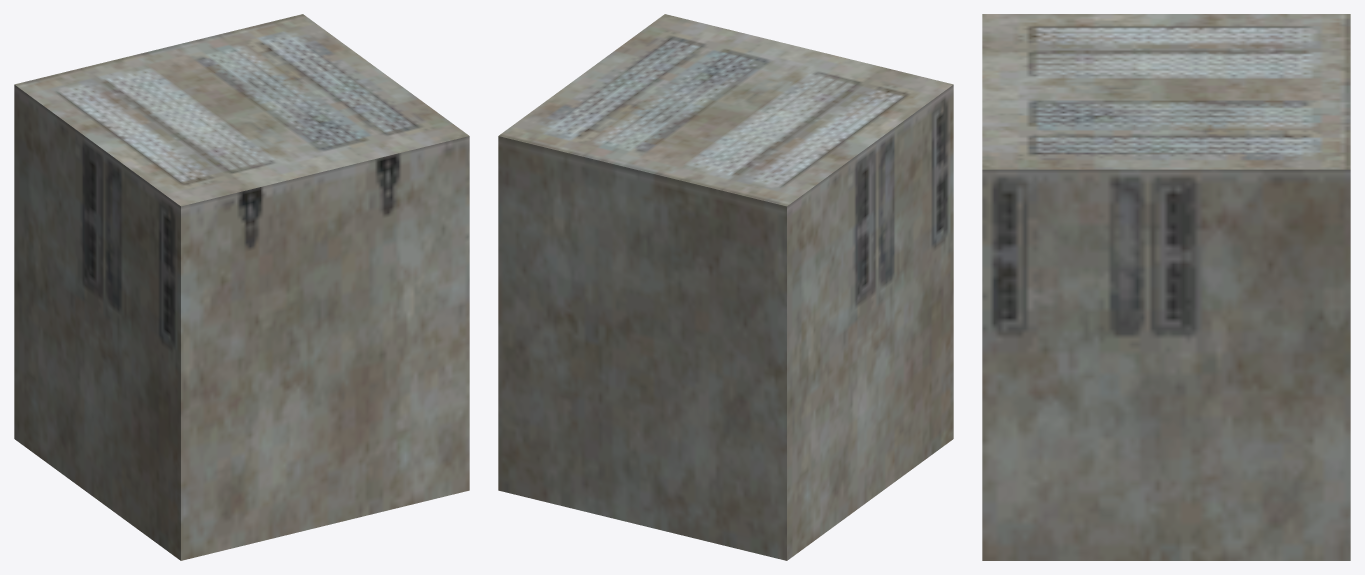
The model's file is thm_tato_debris_s05_l1.fbx.
The picture shows the model from 3 angles, left to right: view 1: azimuth 30°, elevation 25°; view 2: azimuth 150°, elevation 25°; view 3: azimuth 270°, elevation 25°; orthographic projection. The views are drawn at different scales.
Visible parts, largest first — view 1: mesh_node; view 2: mesh_node; view 3: mesh_node.
Part boxes in pixels (x1,y1,x2,y2): mesh_node: (14, 14, 469, 560); mesh_node: (498, 14, 953, 560); mesh_node: (982, 14, 1350, 560).
Bounding box in the file's own units: 0.7548 × 0.8855 × 0.7548.
1 material, 1 textured.
